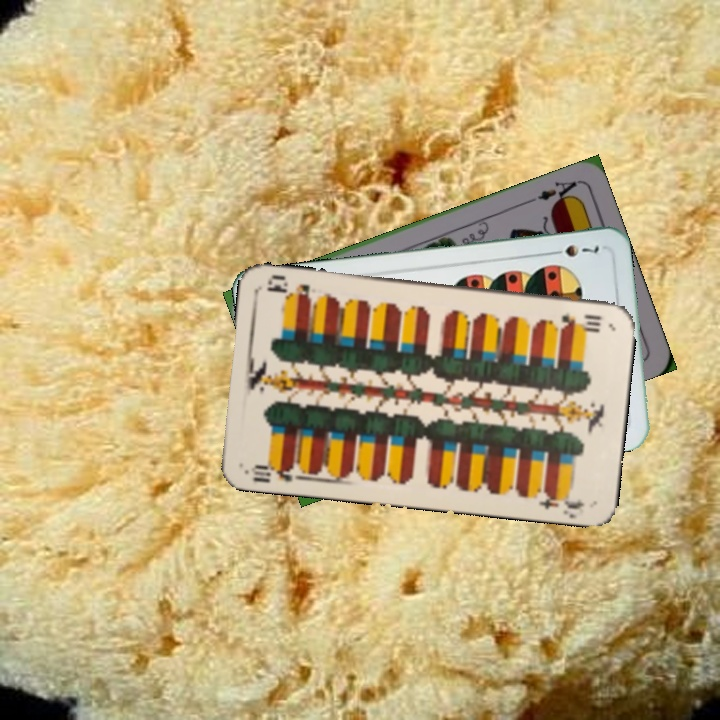E10: (243, 457, 303, 485), (557, 310, 604, 330)
EA: (533, 176, 581, 207)
S7: (545, 241, 601, 259)
